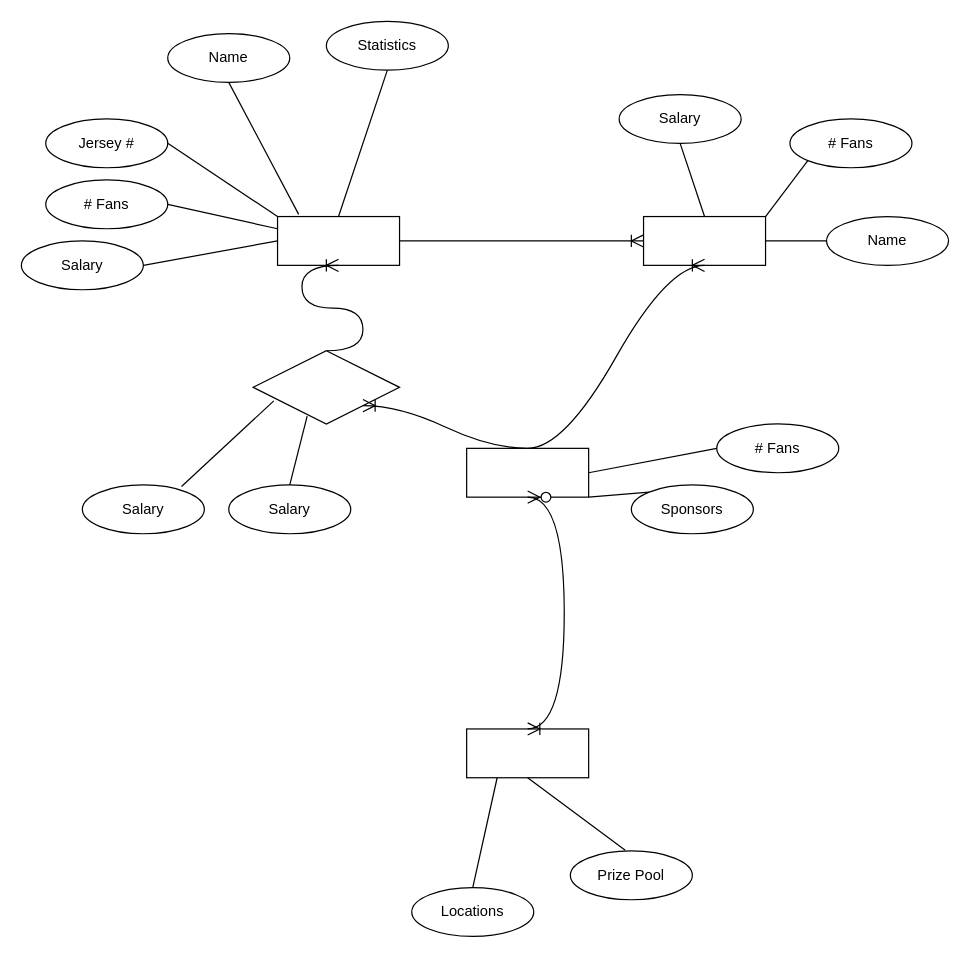
This 970x958 diagram has some shape labels left out. The centre of each missing label's shape, as x and y in pixels:
"Club" belongs at (x=527, y=472).
"League" belongs at (x=527, y=753).
"Manager" belongs at (x=704, y=240).
"Player" belongs at (x=338, y=240).
"Transfer" belongs at (x=326, y=387).
